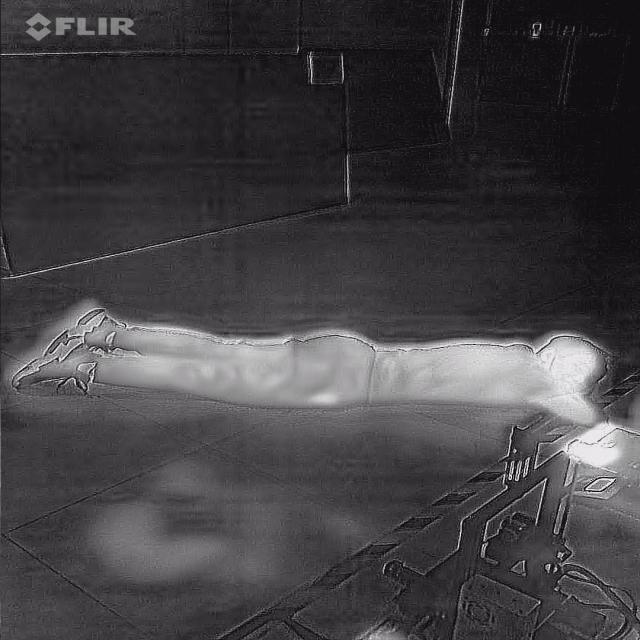Victim: (5, 298, 628, 432)
